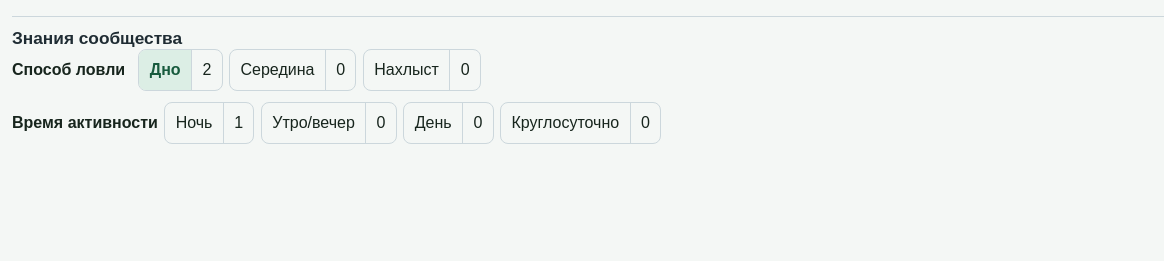
Test: independent chips highlight own vote, add/remove and lazily show voters
Expected: the button "Дно" is enabled, [139,50,191,90]
Click the button "Нахлыст" at (407, 70), box [364,50,449,90]
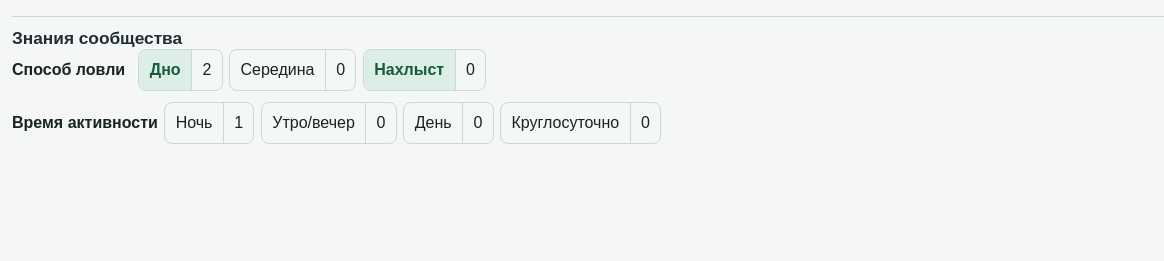
Expected: the button "Нахлыст" is pressed, [364,50,455,90]
Click the button "Дно" at (165, 70), box [139,50,191,90]
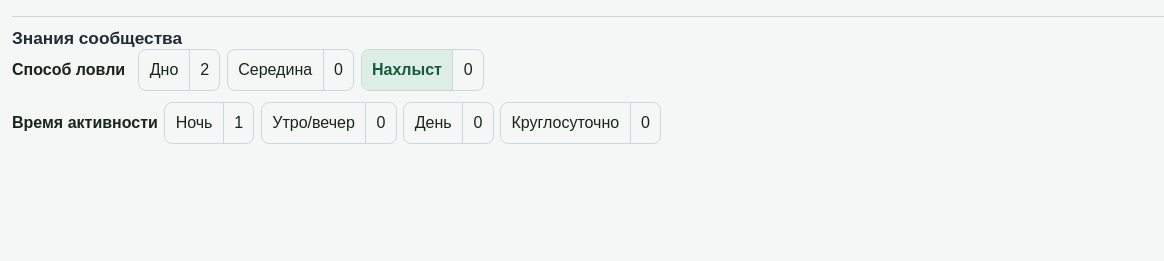
Expected: the button "Дно" is not pressed, [139,50,189,90]
Click the button "Ночь" at (194, 123), box [165,103,223,143]
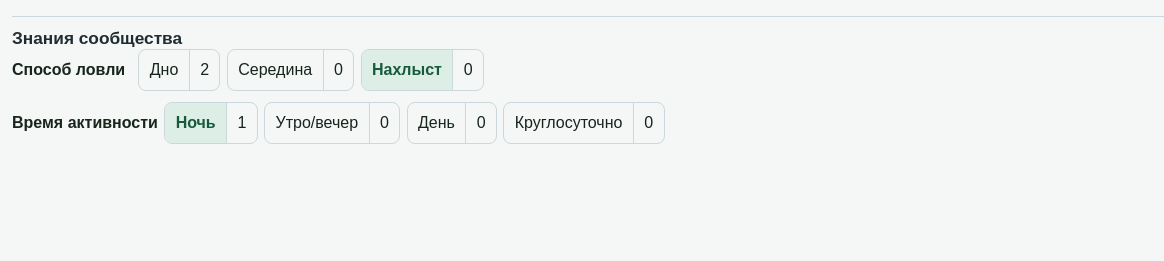
Expected: the button "Ночь" is pressed, [165,103,226,143]
Click the button named "Кто отметил «Дно»" at (204, 70), box [189,50,220,90]
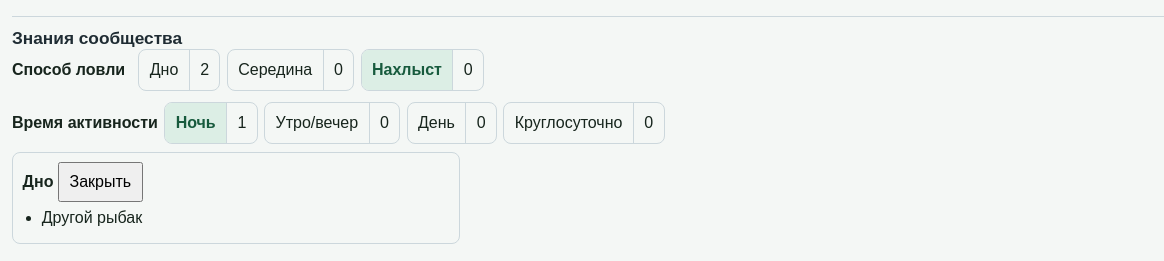
Expected: the list item "Другой рыбак" is shown, [42,209,142,226]
